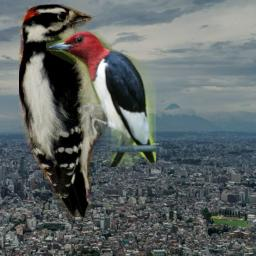Woodpecker: (19, 4, 130, 217), (46, 30, 156, 167)
